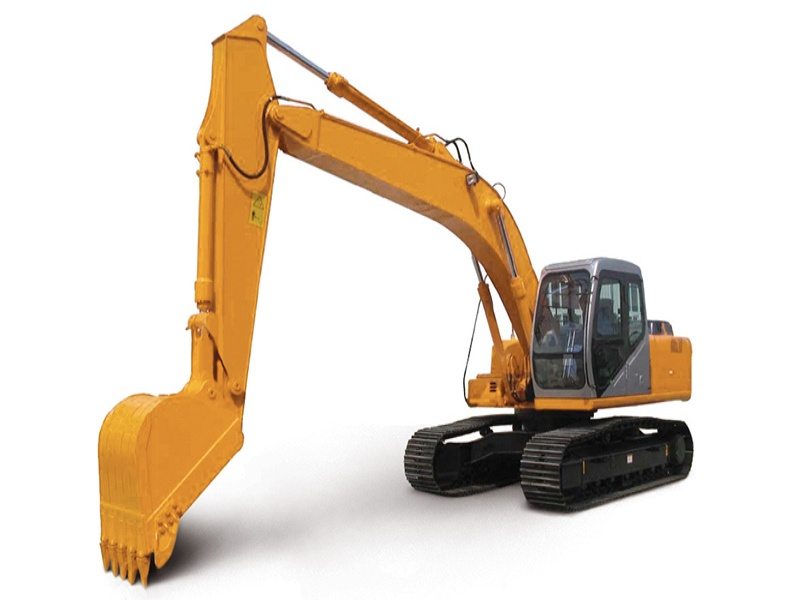wajueji: (342, 165, 738, 541)
